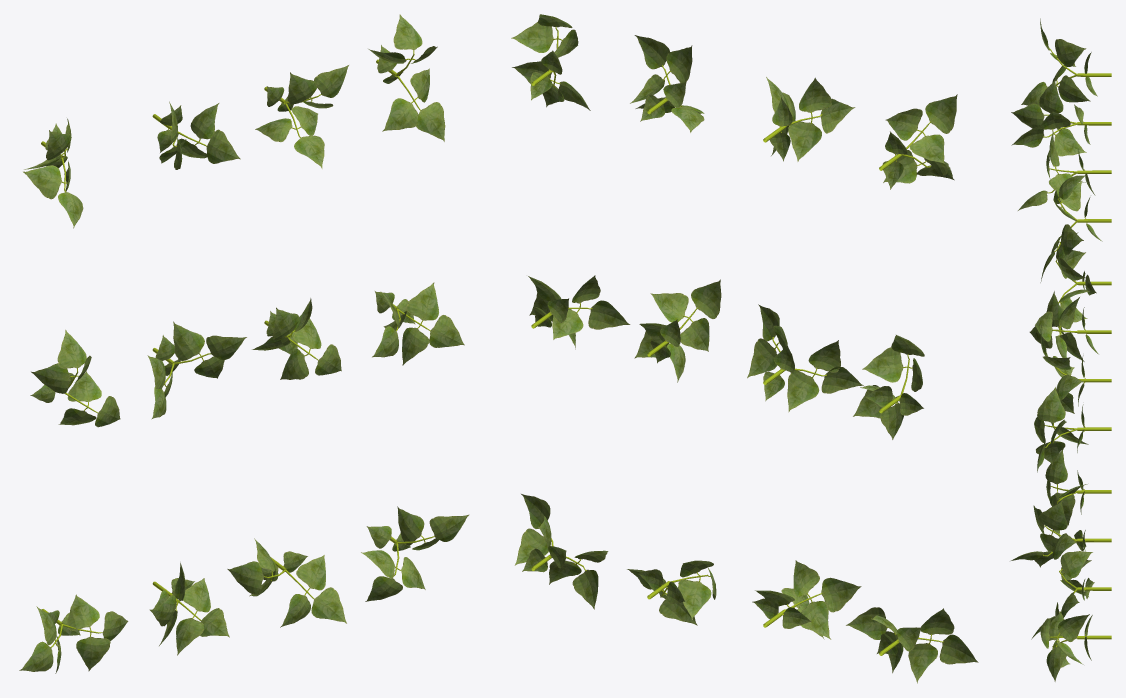
Rendered from plant_genotype0.obj.
3 views of the same model, side by side, from view 1: azimuth 30°, elevation 25°; view 2: azimuth 150°, elevation 25°; view 3: azimuth 270°, elevation 25° (orthographic). The views are drawn at different scales.
Size of the model in its own units: 1.02 by 1.25 by 0.2252.
Materials: 2 (1 with a texture image).
